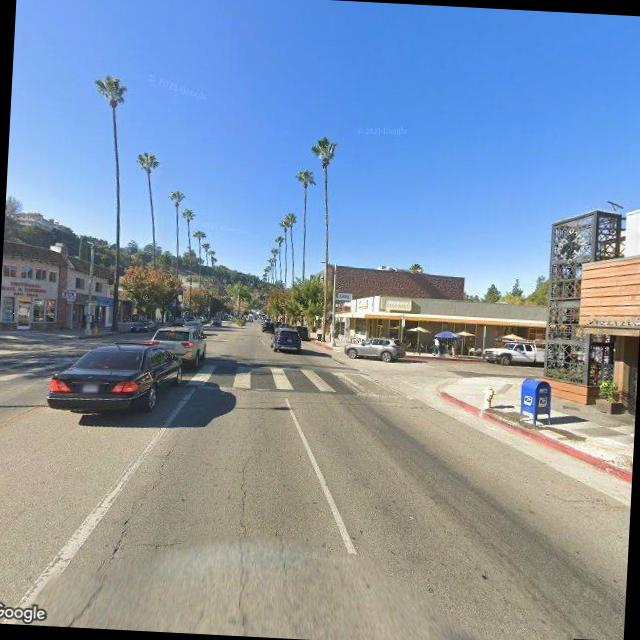pothole: (101, 433, 180, 570), (230, 452, 258, 538)
